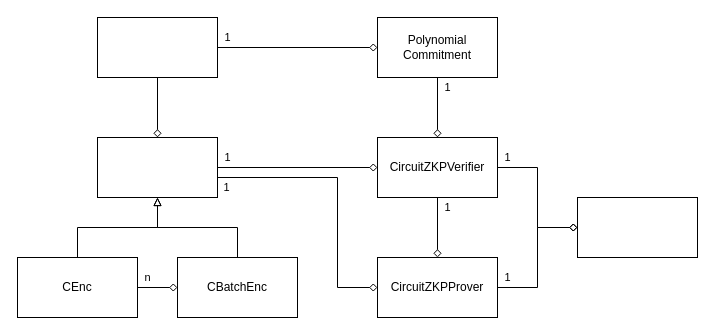
This 715x335 diagram has some shape labels left out. Each missing label, with the centre of its shape:
"App" belongs at point (637, 227).
"CBase" belongs at point (157, 167).
"PaillierEncryption" belongs at point (157, 47).
